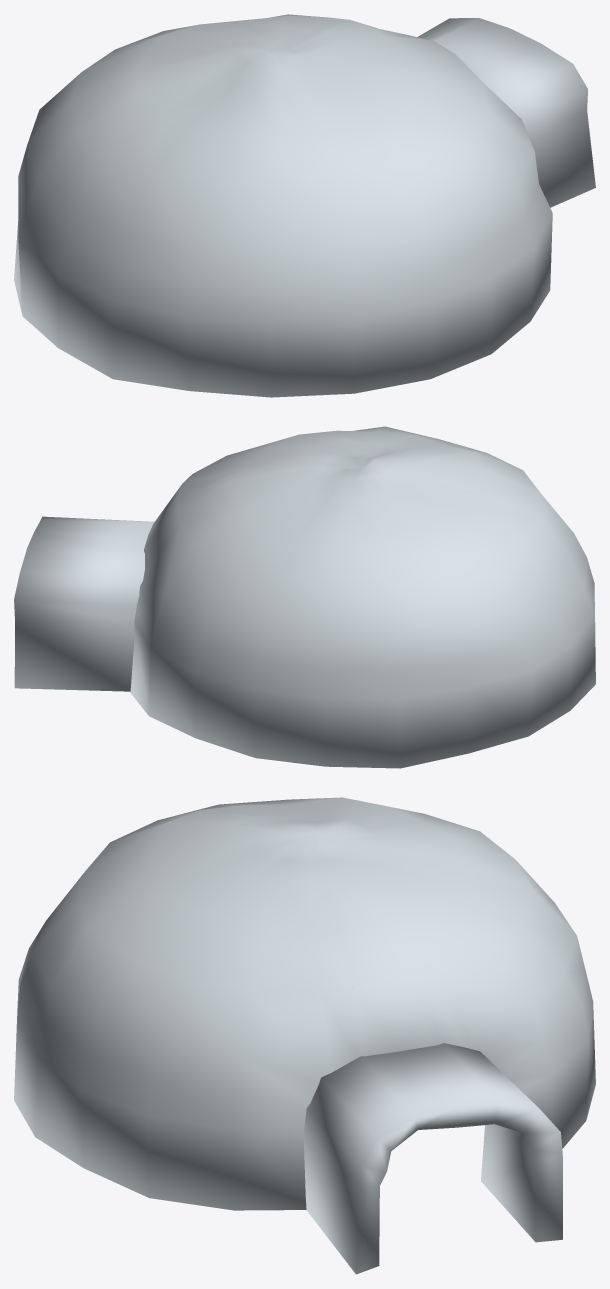
The model's file is Igloo.fbx.
3 renders of one model, top to bottom at view 1: azimuth 30°, elevation 25°; view 2: azimuth 150°, elevation 25°; view 3: azimuth 270°, elevation 25°, orthographic. The views are drawn at different scales.
Parts seen in each view (by area): view 1: Igloo; view 2: Igloo; view 3: Igloo.
Boxes of the visible parts, x1,y1,x2,y2 form: Igloo: [14, 14, 595, 397]; Igloo: [14, 426, 595, 768]; Igloo: [14, 797, 595, 1274].
Size of the model in its own units: 941 by 378 by 765.
1 material, 1 textured.
